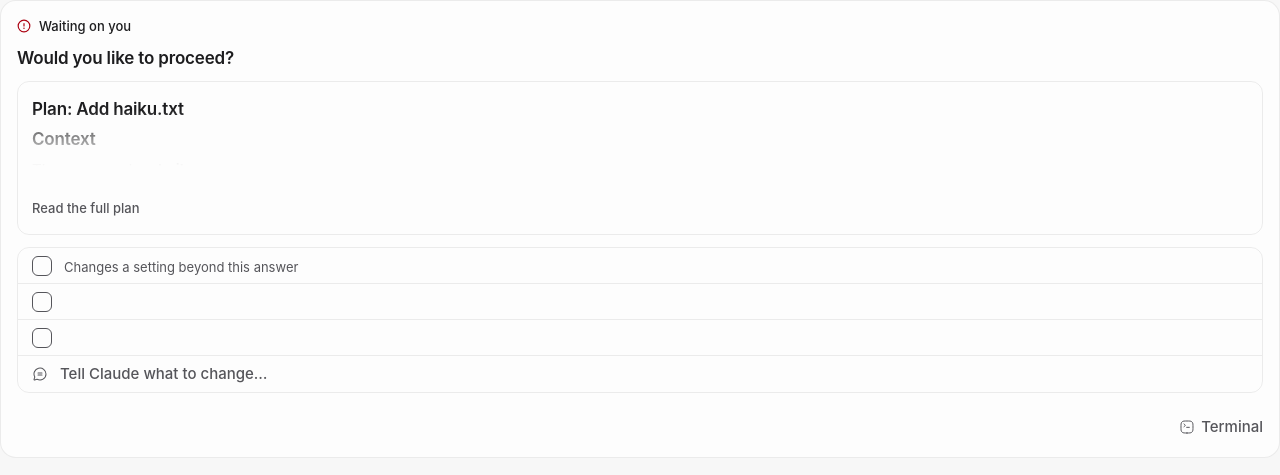
Test: QuestionCard › a plan › folds a long plan behind Read the full plan, with no scroll box of its own
Click the button "Read the full plan": (86, 208) top-left (28, 186), bottom-right (144, 230)
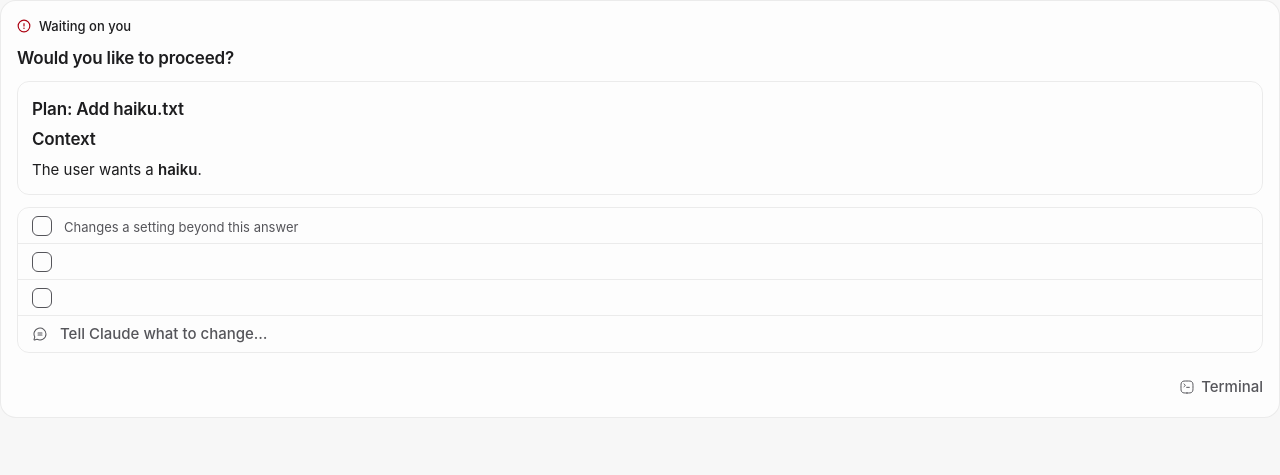
Now the button "Read the full plan" is gone
